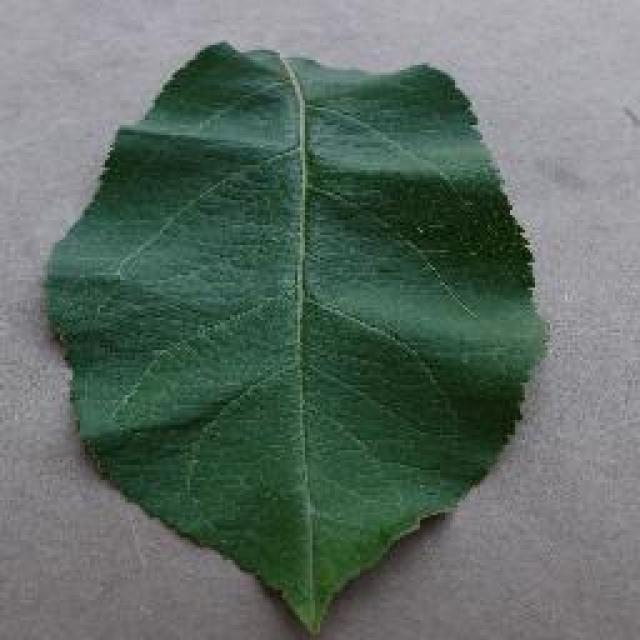apple healthy: (40, 37, 550, 635)
